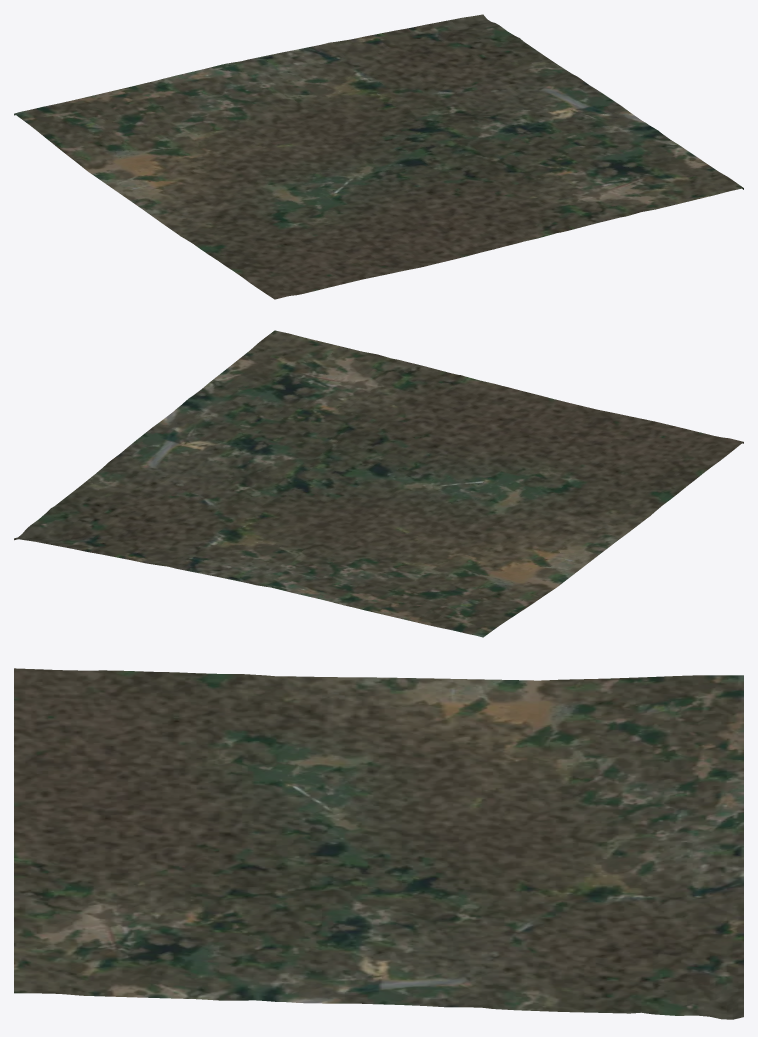
3 renders of one model, top to bottom at view 1: azimuth 30°, elevation 25°; view 2: azimuth 150°, elevation 25°; view 3: azimuth 270°, elevation 25°, orthographic. The views are drawn at different scales.
Bounding box in the file's own units: 250 × 12.26 × 241.
1 material, 1 textured.
